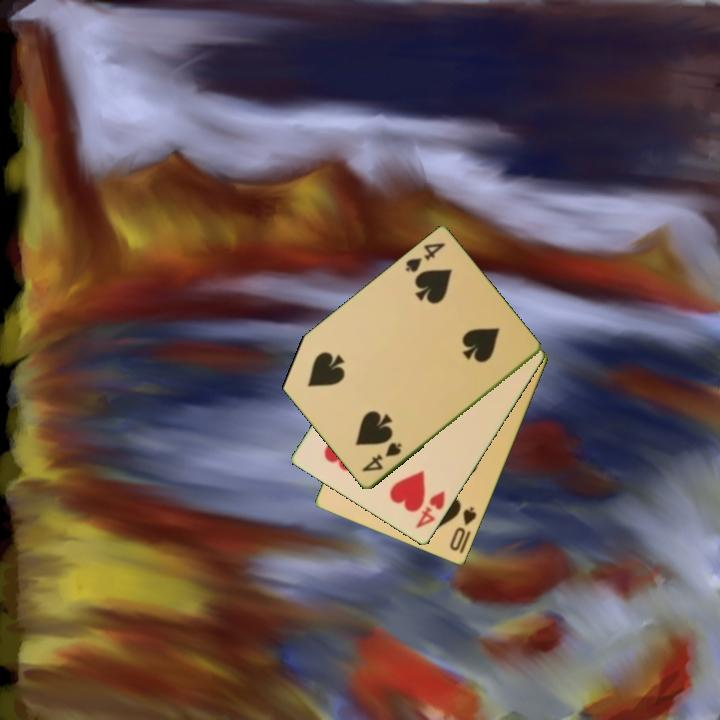10s: (446, 504, 480, 554)
4h: (412, 487, 448, 532)
4s: (402, 239, 448, 276), (358, 439, 405, 475)
